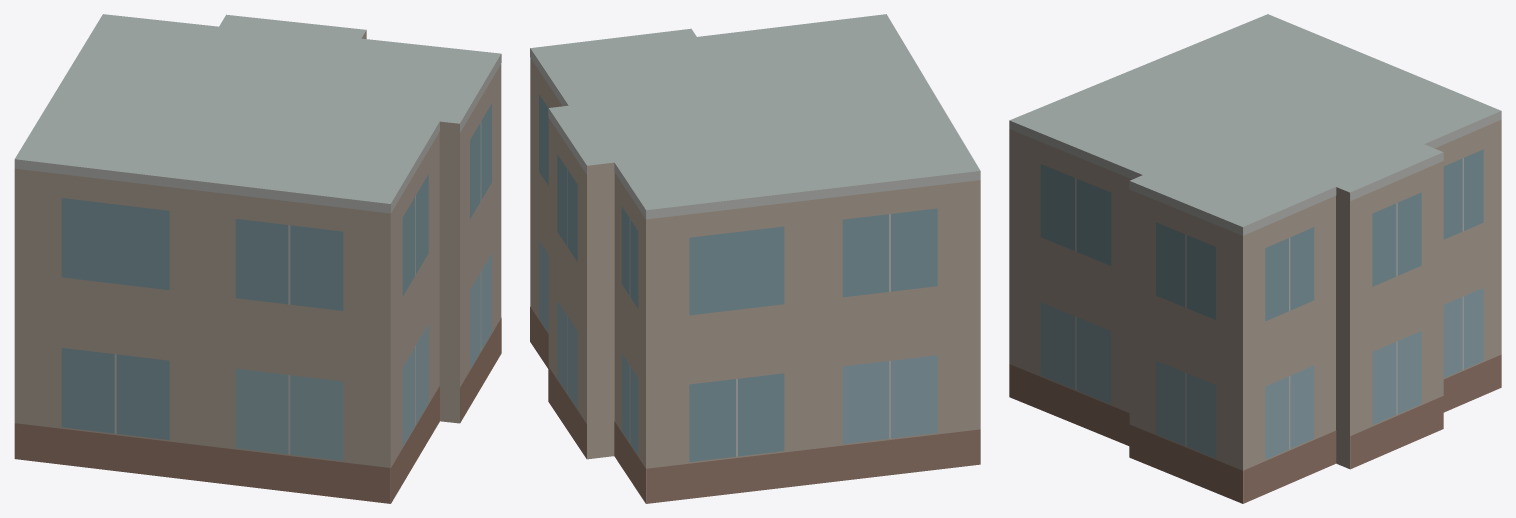
Rendered from survey-upis-32780293.glb.
3 renders of one model, left to right at view 1: azimuth 30°, elevation 25°; view 2: azimuth 150°, elevation 25°; view 3: azimuth 270°, elevation 25°, orthographic. The views are drawn at different scales.
Parts seen in each view (by area): view 1: survey-upis-32780293.tmp; view 2: survey-upis-32780293.tmp; view 3: survey-upis-32780293.tmp.
Boxes of the visible parts, bbox=[...] form: survey-upis-32780293.tmp: bbox=[14, 14, 501, 503]; survey-upis-32780293.tmp: bbox=[530, 14, 980, 503]; survey-upis-32780293.tmp: bbox=[1009, 14, 1501, 503].
Bounding box in the file's own units: 12.9 × 7.8 × 12.59.
